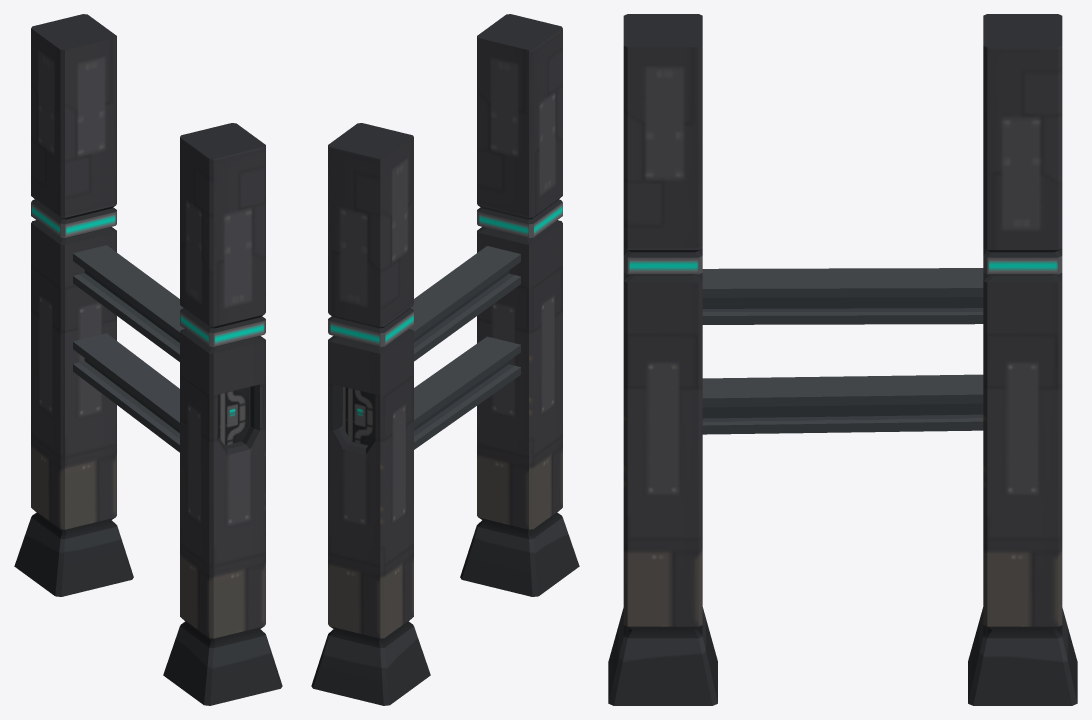
The model's file is SM_Bld_Pipe_Strut.fbx.
3 views of the same model, side by side, from view 1: azimuth 30°, elevation 25°; view 2: azimuth 150°, elevation 25°; view 3: azimuth 270°, elevation 25° (orthographic). The views are drawn at different scales.
Visible parts, largest first — view 1: SM_Bld_Pipe_Strut; view 2: SM_Bld_Pipe_Strut; view 3: SM_Bld_Pipe_Strut.
Boxes of the visible parts, x1,y1,x2,y2 form: SM_Bld_Pipe_Strut: [14, 14, 282, 705]; SM_Bld_Pipe_Strut: [311, 14, 579, 705]; SM_Bld_Pipe_Strut: [608, 14, 1077, 705].
Bounding box in the file's own units: 30.26 × 198 × 129.
